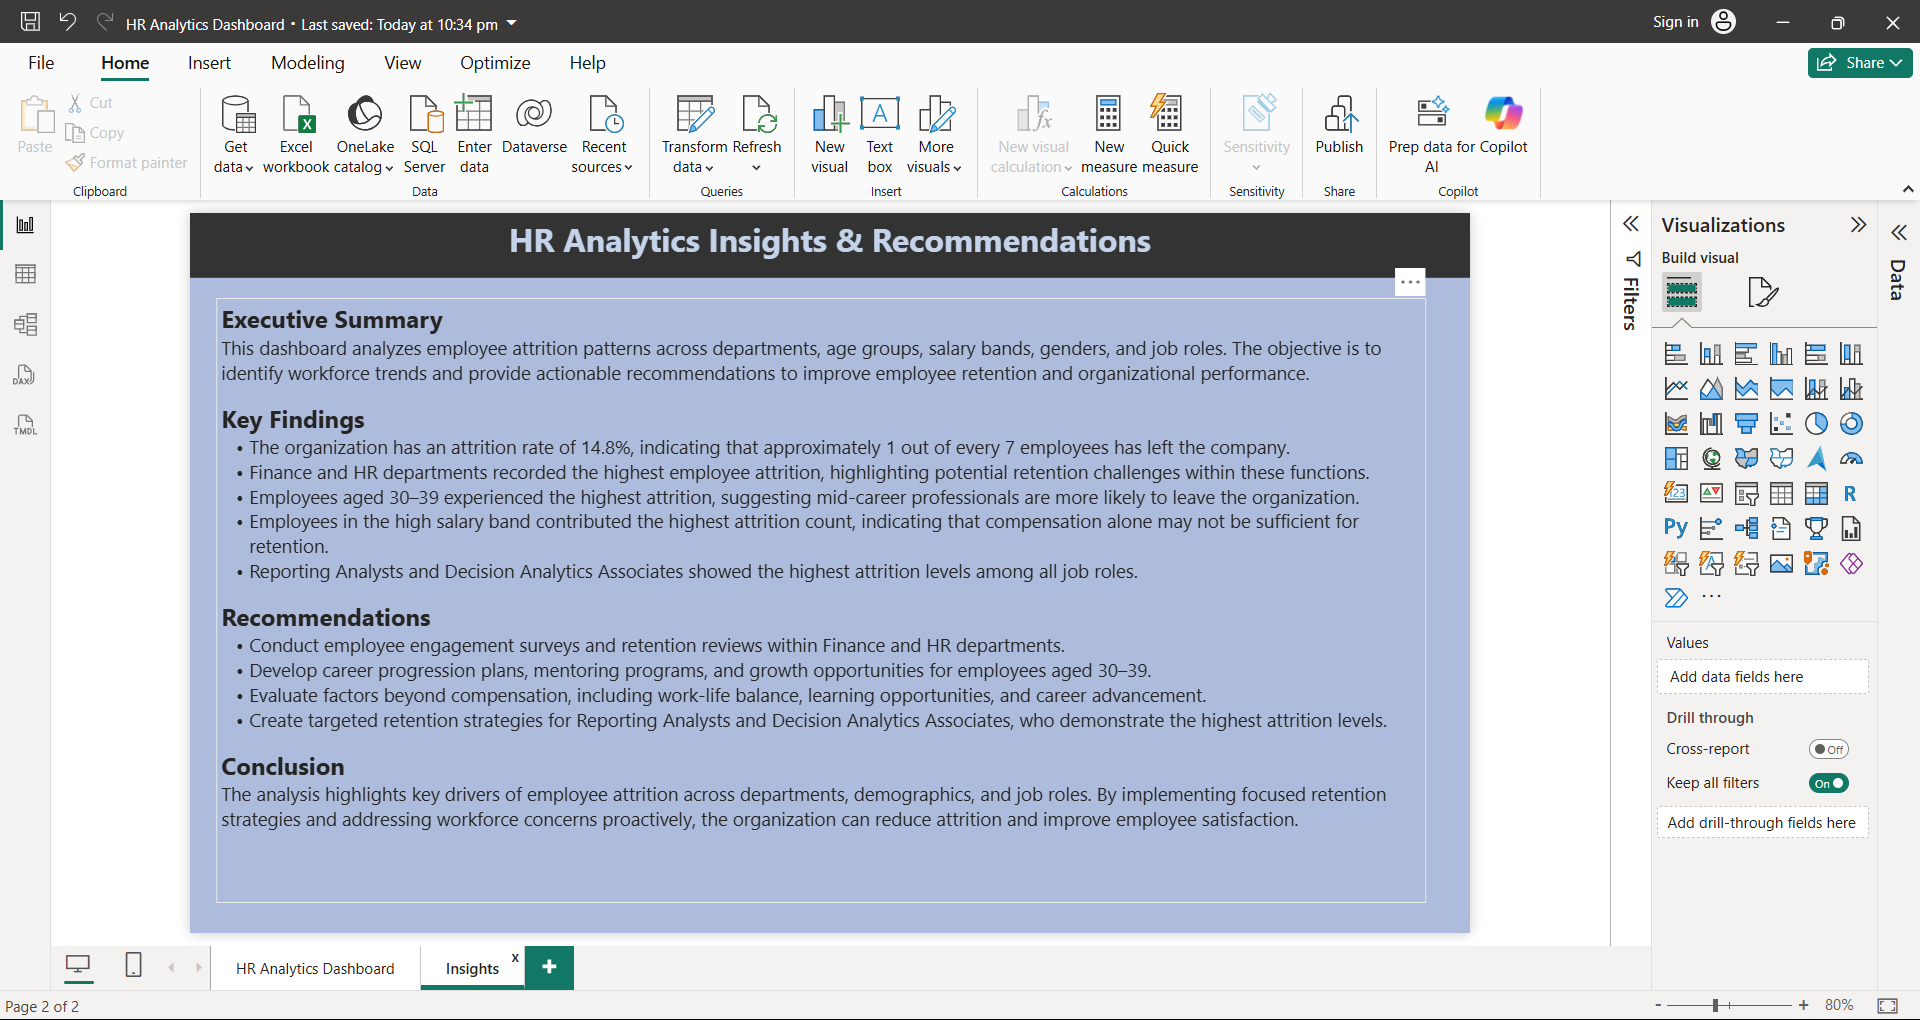

The page's visual inventory and layout, read from the dashboard file:
{"tool":"powerbi","page":{"name":"Insights","canvas":[1280,720],"ordinal":1},"visuals":[{"type":"textbox","box":[0,0,1280,65],"z":0},{"type":"textbox","box":[26.2,85,1210,605],"z":1000}]}

Visuals, with their boxes on the page's 1280x720 design canvas (x1, y1, x2, y2). These are canvas units, not pixel positions in the 1920x1020 screenshot, which may show the page scaled, cropped or inside an application window:
textbox: [left=0, top=0, right=1280, bottom=65]
textbox: [left=26, top=85, right=1236, bottom=690]
